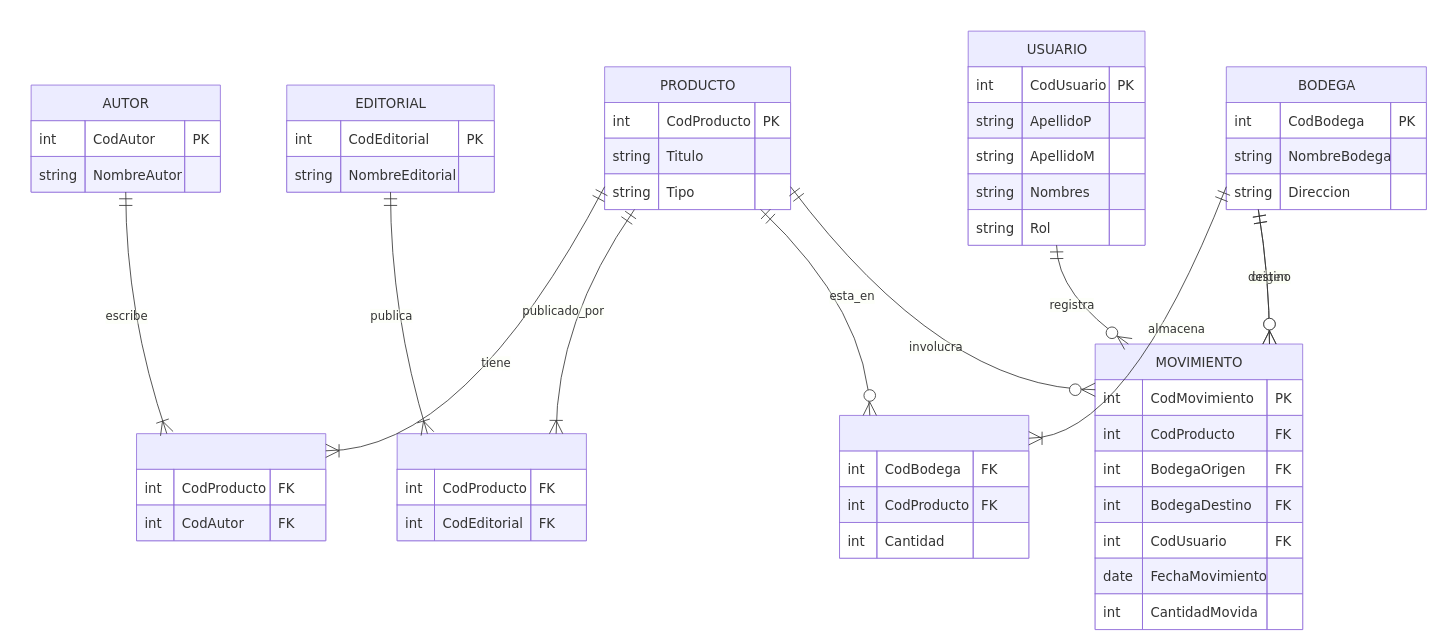
Some shapes in this 1441 by 644 pixel diagram are drawn without their labels. Here are the shapes that lost their labels. From the top down, the box of each, then its label:
(136, 433, 326, 541): PRODUCTO_AUTOR
(396, 433, 586, 541): PRODUCTO_EDITORIAL
(839, 415, 1029, 558): INVENTARIO
